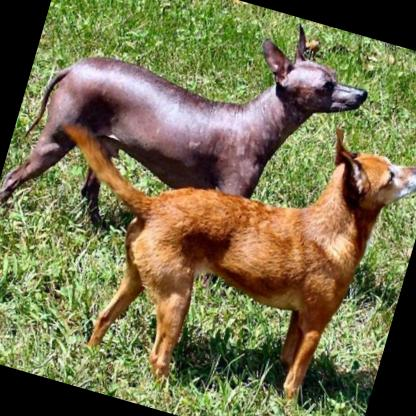Mexican_hairless: (0, 0, 382, 295)
